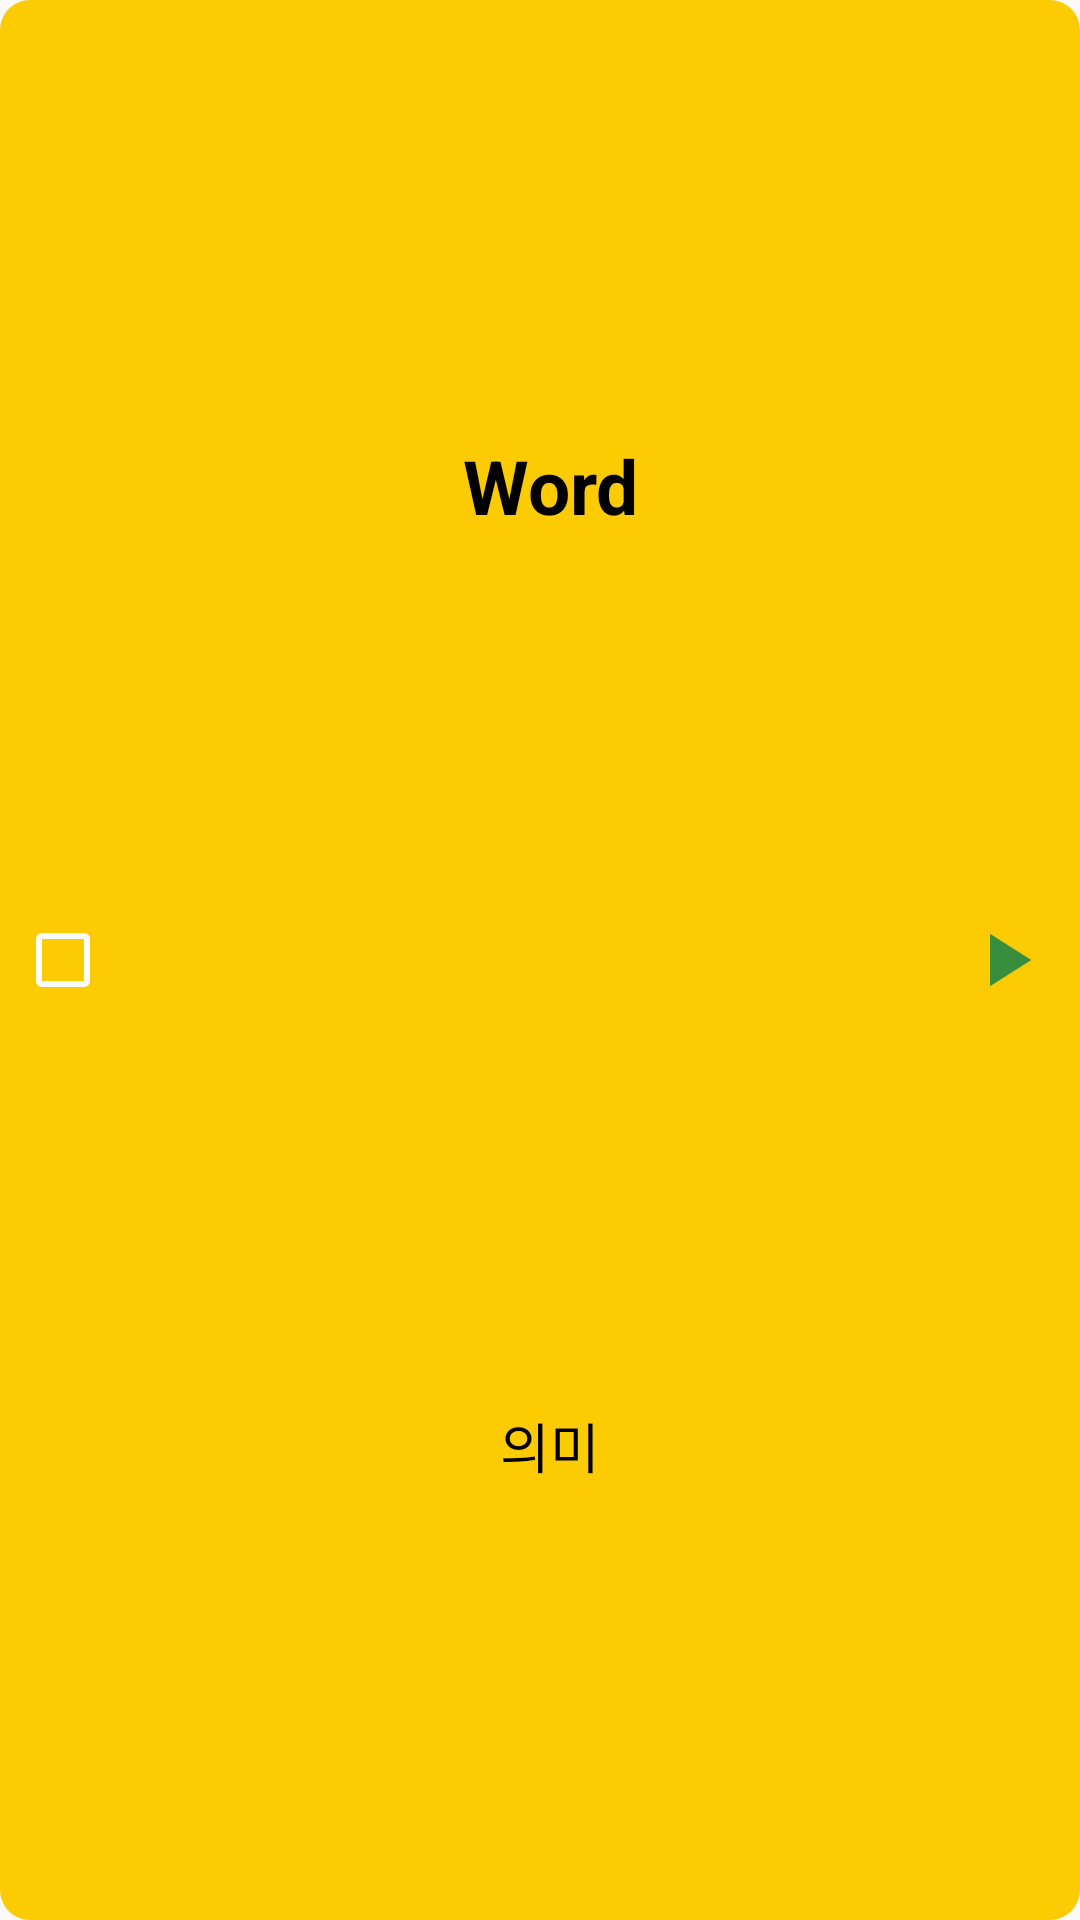

Named icons in this screenshot (1080 × 1920) and their centers, (x=x, y=y):
play arrow: (x=1010, y=960)
